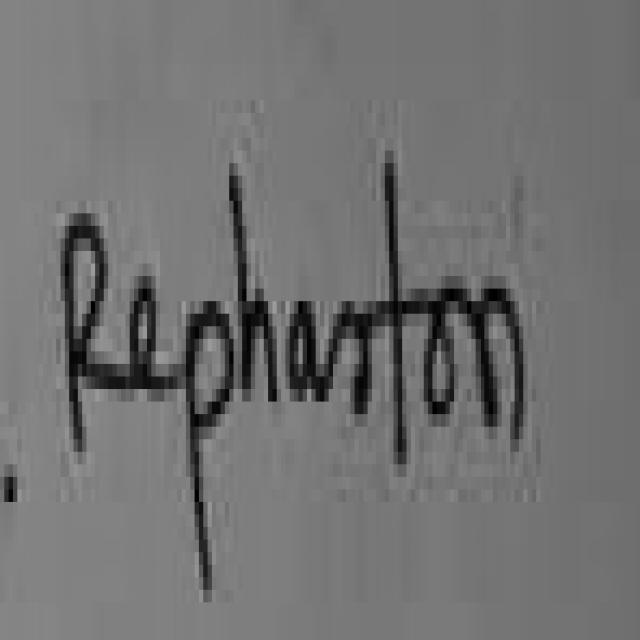R: (65, 213, 129, 445)
a: (290, 301, 333, 402)
e: (128, 274, 181, 402)
h: (229, 176, 281, 402)
n: (467, 289, 528, 445)
o: (428, 321, 455, 414)
p: (186, 301, 234, 602)
s: (326, 292, 371, 415)
t: (370, 151, 431, 461)
